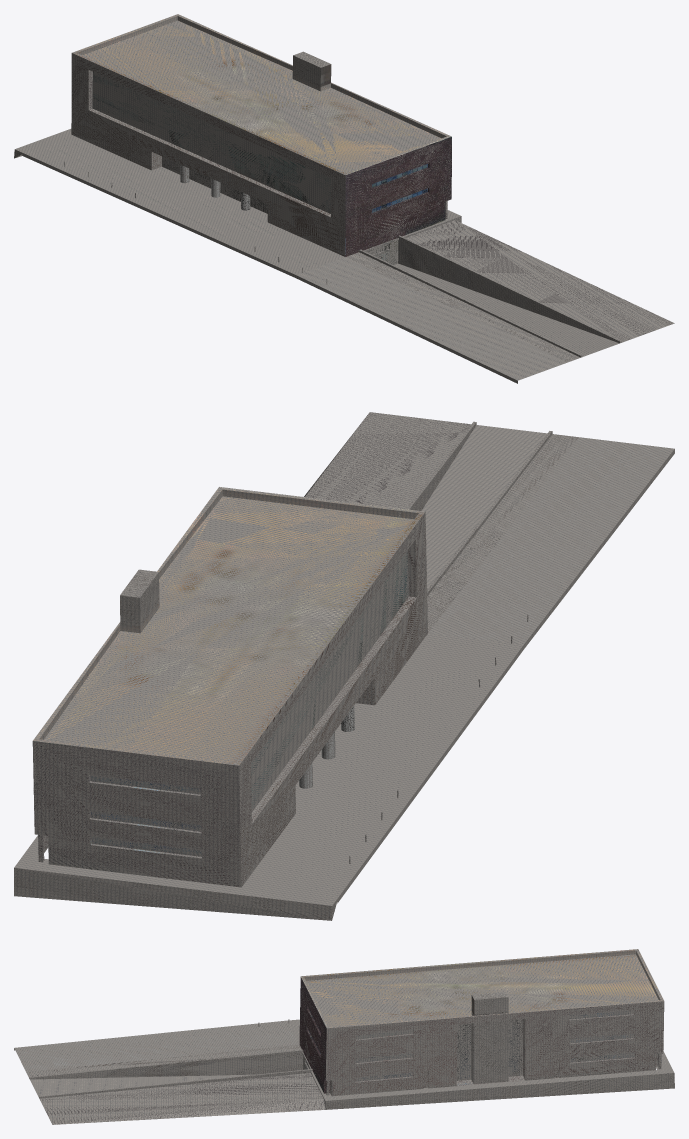
File: Edificio del IUCTC.fbx
The picture shows the model from 3 angles, top to bottom: view 1: azimuth 30°, elevation 25°; view 2: azimuth 150°, elevation 25°; view 3: azimuth 270°, elevation 25°; orthographic projection. The views are drawn at different scales.
Visible parts, largest first — view 1: Group1; view 2: Group1; view 3: Group1.
Part boxes in pixels (x1,y1,x2,y2): Group1: (14, 14, 674, 383); Group1: (14, 412, 674, 920); Group1: (14, 949, 674, 1124).
Bounding box in the file's own units: 52.38 × 19.31 × 111.
